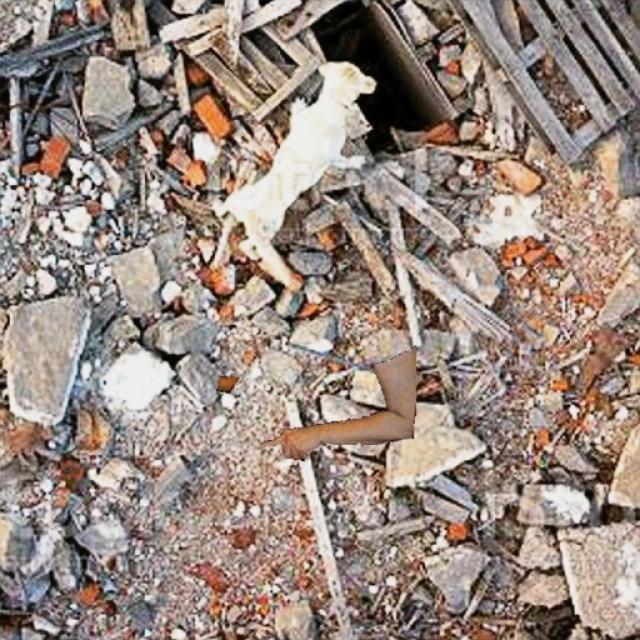Person in Rubble: (216, 345, 415, 460)
